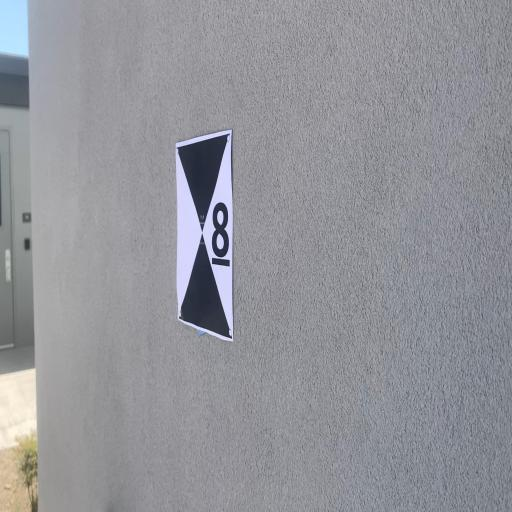target8: (176, 133, 233, 341)
